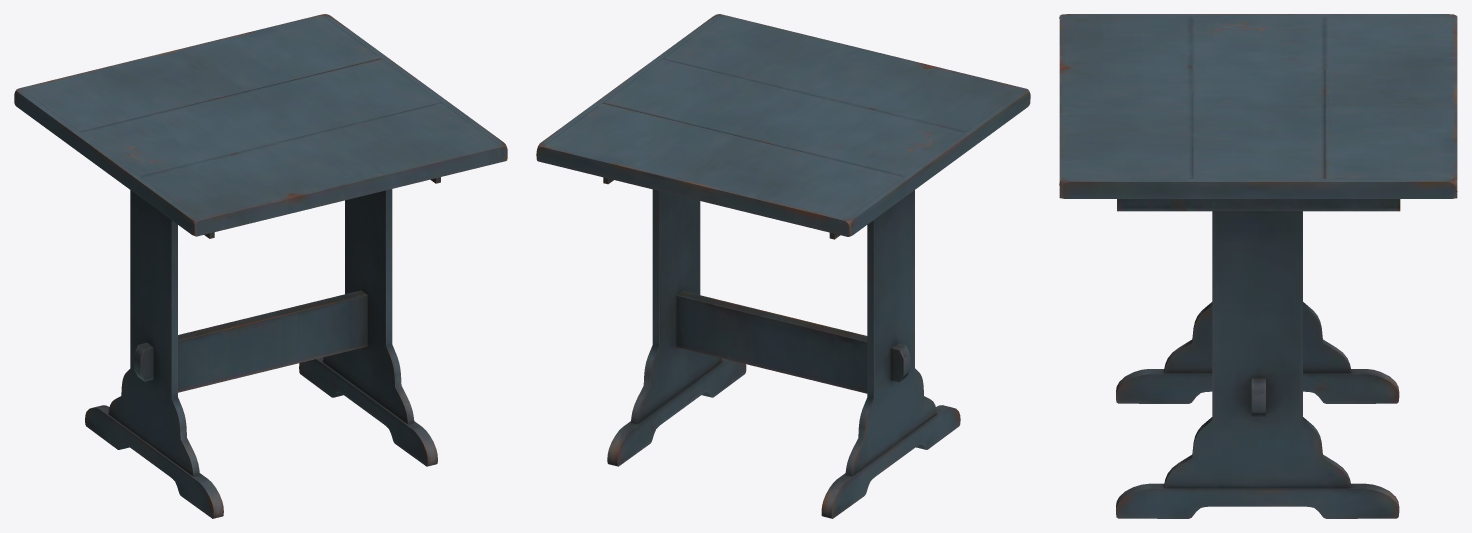
File: ph-painted-wooden-table.glb
3 views of the same model, side by side, from view 1: azimuth 30°, elevation 25°; view 2: azimuth 150°, elevation 25°; view 3: azimuth 270°, elevation 25° (orthographic). The views are drawn at different scales.
Visible parts, largest first — view 1: painted_wooden_table; view 2: painted_wooden_table; view 3: painted_wooden_table.
Part boxes in pixels (box(x1,y1,x2,y2)): painted_wooden_table: box(14, 14, 507, 518); painted_wooden_table: box(536, 14, 1030, 518); painted_wooden_table: box(1059, 14, 1457, 518).
Bounding box in the file's own units: 1 × 1 × 1.
1 material, 1 textured.
